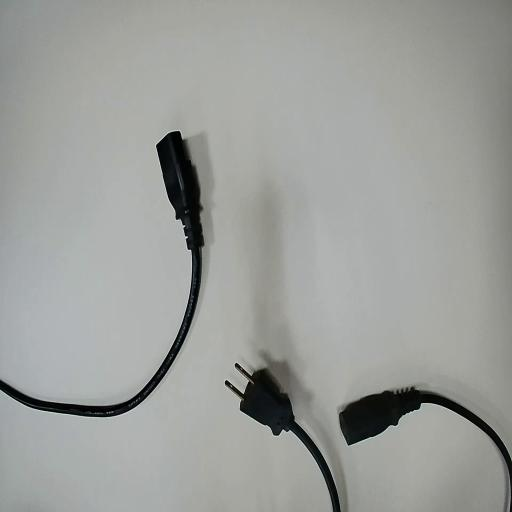wire: (0, 132, 203, 415), (340, 388, 511, 484), (231, 369, 339, 511)
